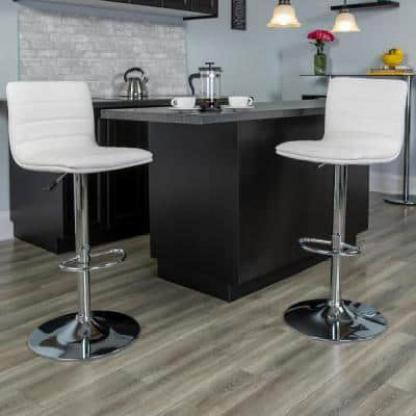chair: (5, 75, 157, 369), (273, 69, 416, 344)
light: (260, 0, 308, 35), (327, 0, 369, 30)
table: (96, 94, 372, 303)
